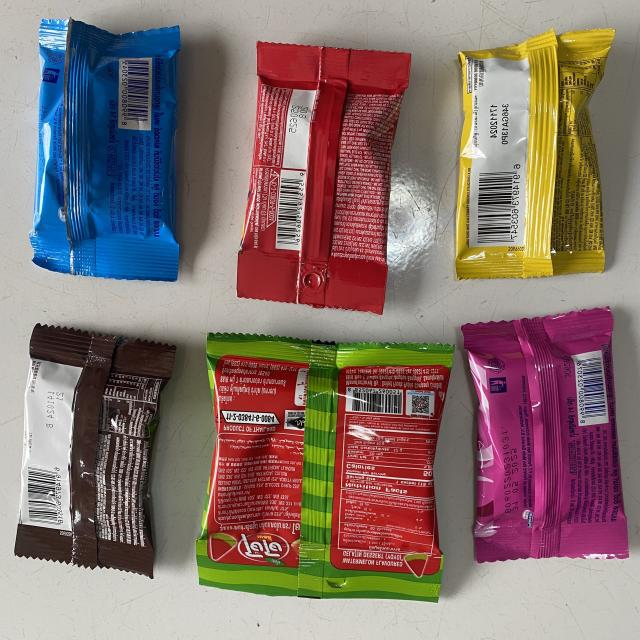plastik: (196, 334, 454, 601), (237, 42, 411, 315), (462, 308, 629, 562), (15, 324, 175, 578), (455, 29, 614, 279), (30, 19, 180, 281)
